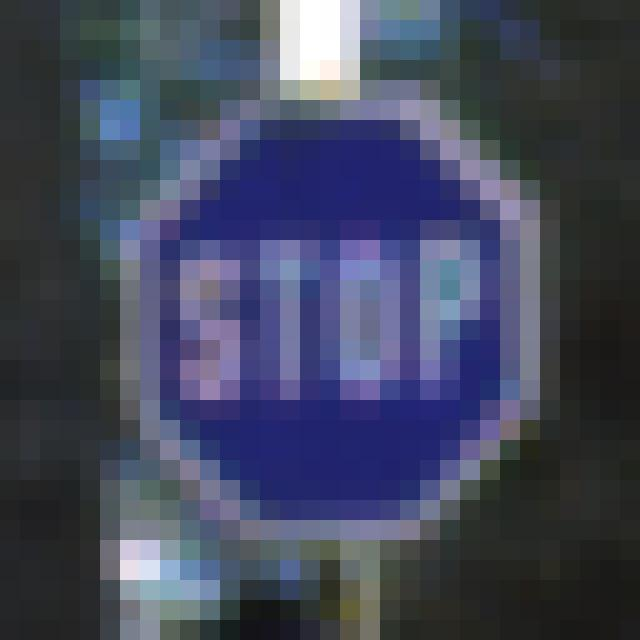STOP: (142, 116, 535, 529)
